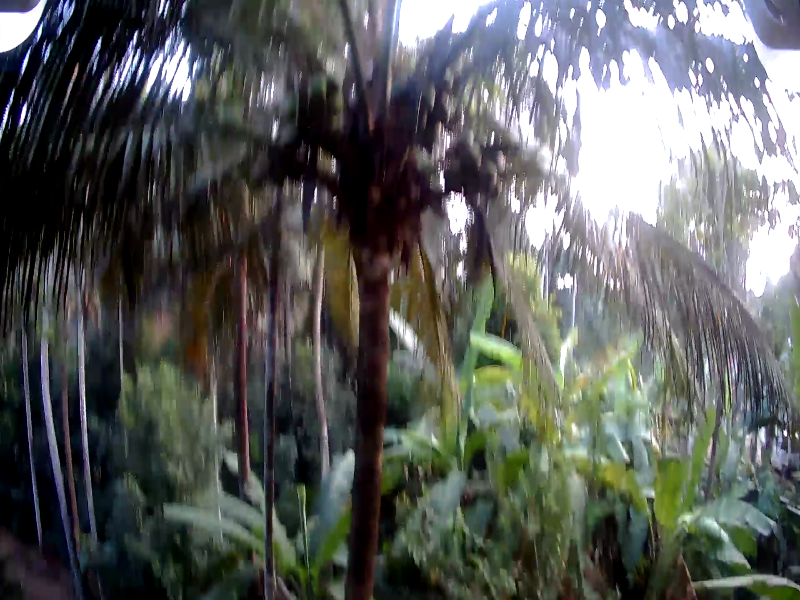coconut: (477, 161, 500, 192), (417, 78, 435, 112), (322, 86, 340, 117), (308, 69, 325, 100), (463, 141, 481, 167)
